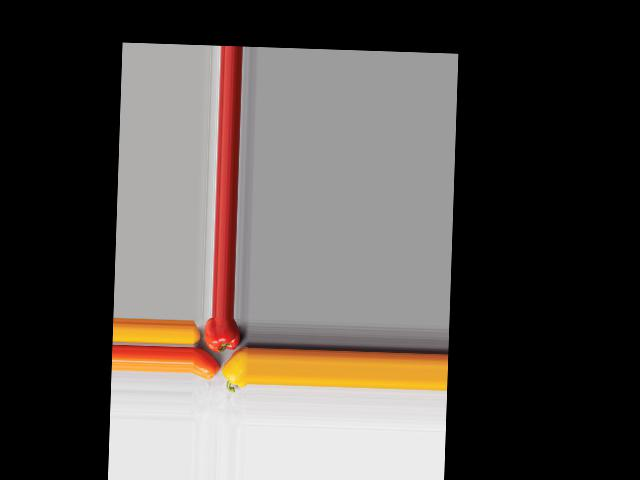bell_pepper: (204, 318, 243, 352)
